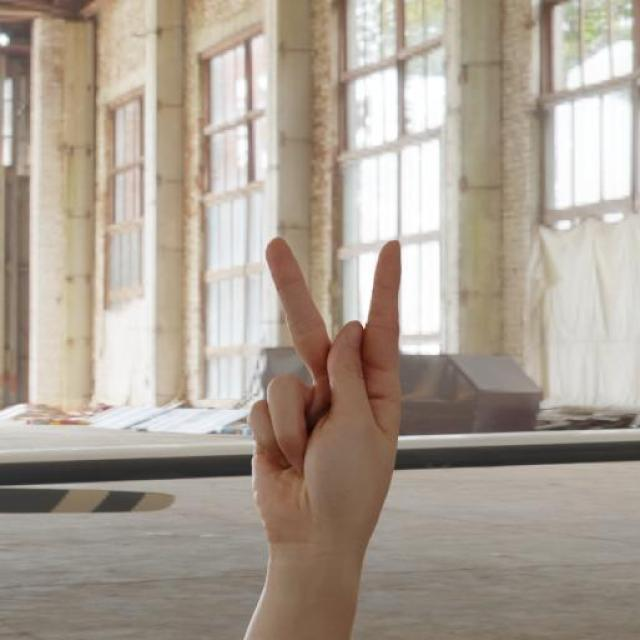K: (243, 235, 404, 551)
